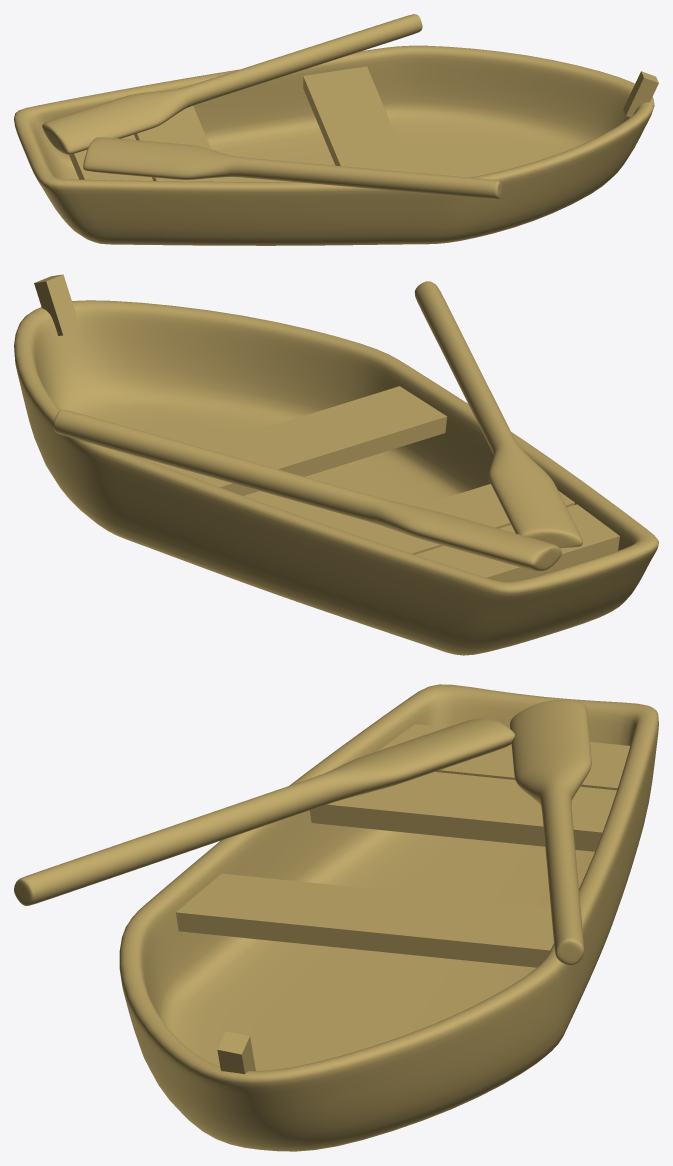
The model's file is boat.fbx.
3 views of the same model, one above another, from view 1: azimuth 30°, elevation 25°; view 2: azimuth 150°, elevation 25°; view 3: azimuth 270°, elevation 25° (orthographic). The views are drawn at different scales.
Visible parts, largest first — view 1: Plane.001, Cylinder.002, Cylinder.003, Cube.006, Cube.002, Cube.001, Cube.007; view 2: Plane.001, Cylinder.003, Cube.006, Cylinder.002, Cube.007, Cube.002, Cube.001; view 3: Plane.001, Cube.006, Cylinder.002, Cube.002, Cylinder.003, Cube.007, Cube.001.
Part boxes in pixels (box(x1,y1,x2,y2)): Plane.001: box(14, 45, 654, 245); Cylinder.002: box(83, 137, 501, 199); Cylinder.003: box(42, 14, 422, 154); Cube.006: box(303, 66, 410, 172); Cube.002: box(134, 106, 224, 181); Cube.001: box(623, 71, 658, 117); Cube.007: box(59, 116, 152, 180); Plane.001: box(14, 300, 658, 655); Cylinder.003: box(53, 409, 561, 570); Cube.006: box(154, 386, 447, 495); Cylinder.002: box(414, 281, 582, 548); Cube.007: box(415, 504, 619, 581); Cube.002: box(342, 484, 574, 554); Cube.001: box(34, 274, 80, 335); Plane.001: box(119, 684, 658, 1151); Cube.006: box(176, 873, 553, 967); Cylinder.002: box(14, 718, 514, 905); Cube.002: box(309, 772, 616, 851); Cylinder.003: box(510, 700, 591, 965); Cube.007: box(378, 724, 630, 790); Cube.001: box(217, 1031, 255, 1074).
Size of the model in its own units: 119 by 22.47 by 81.
